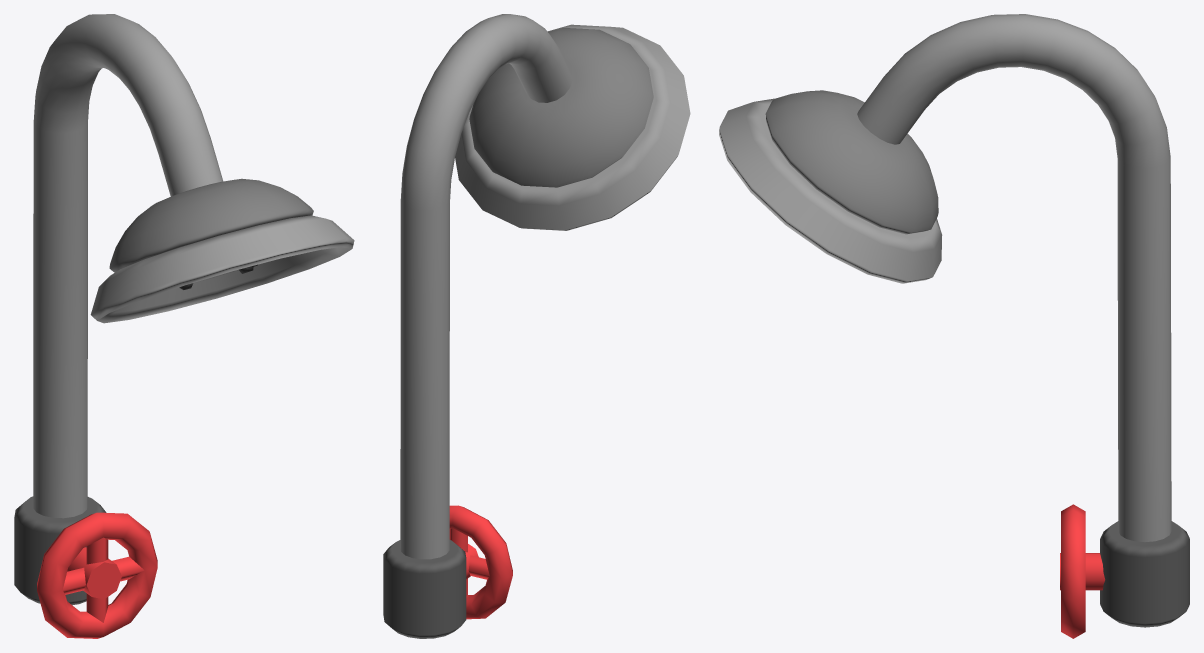
File: Showerhead.fbx
3 views of the same model, side by side, from view 1: azimuth 30°, elevation 25°; view 2: azimuth 150°, elevation 25°; view 3: azimuth 270°, elevation 25° (orthographic). The views are drawn at different scales.
Parts seen in each view (by area): view 1: Cylinder.002; view 2: Cylinder.002; view 3: Cylinder.002.
Boxes of the visible parts, box(x1,y1,x2,y2) form: Cylinder.002: box(14, 14, 354, 638); Cylinder.002: box(383, 14, 690, 638); Cylinder.002: box(719, 14, 1189, 638).
Bounding box in the file's own units: 176 × 450 × 312.
